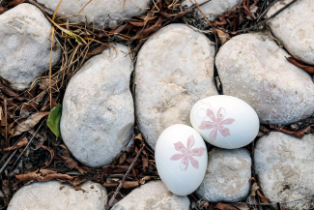egg: (186, 93, 270, 152), (150, 120, 210, 195)
stone: (130, 18, 218, 162), (206, 23, 314, 128), (57, 33, 140, 168), (1, 1, 65, 96), (246, 127, 314, 208), (181, 141, 256, 202), (4, 169, 112, 210), (104, 174, 194, 210)
